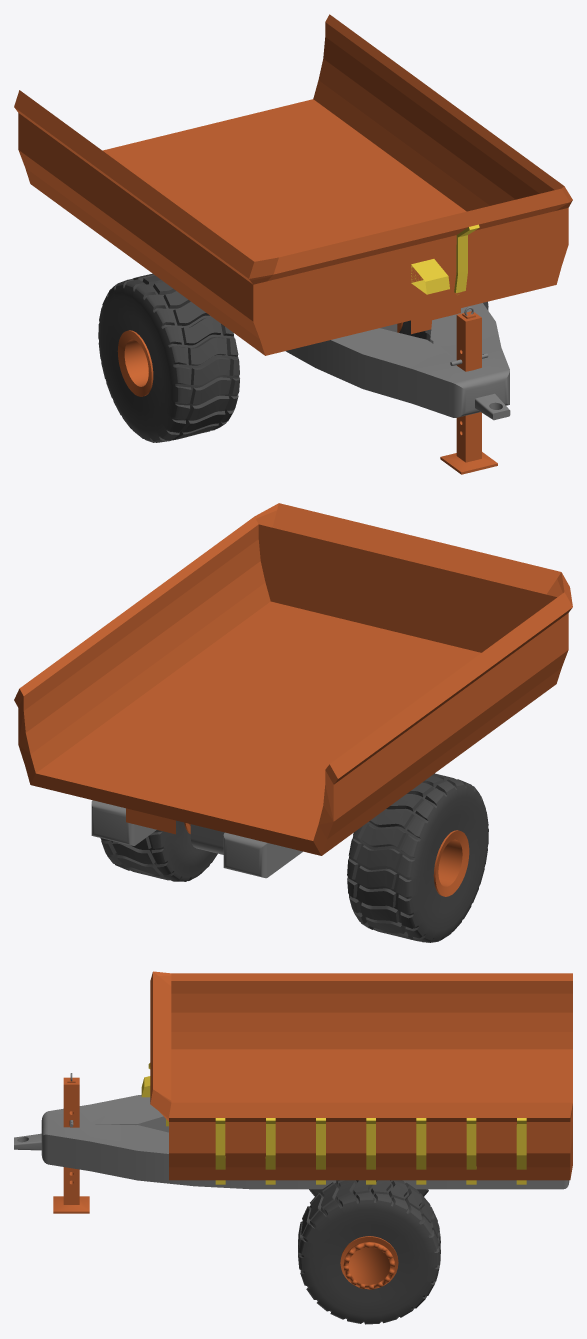
Rendered from Machine.glb.
The picture shows the model from 3 angles, top to bottom: view 1: azimuth 30°, elevation 25°; view 2: azimuth 150°, elevation 25°; view 3: azimuth 270°, elevation 25°; orthographic projection. The views are drawn at different scales.
Parts seen in each view (by area): view 1: Plane.001, Cylinder.121, Cube.001, Cube.003, Plane.010, Plane.009; view 2: Plane.001, Cylinder.121, Cube.001, Cube.002, Plane.018; view 3: Plane.001, Cylinder.121, Cube.001, Cube.003, Cylinder.001, Plane.004, Plane.005, Plane.008, Plane.006, Plane.007, Plane.002, Plane.003.
Part boxes in pixels (left/top/right/bottom): Plane.001: left=14, top=14, right=572, bottom=355; Cylinder.121: left=98, top=273, right=488, bottom=442; Cube.001: left=285, top=303, right=510, bottom=420; Cube.003: left=440, top=311, right=497, bottom=474; Plane.010: left=411, top=259, right=449, bottom=294; Plane.009: left=454, top=224, right=479, bottom=294; Plane.001: left=14, top=503, right=572, bottom=855; Cylinder.121: left=100, top=773, right=488, bottom=942; Cube.001: left=91, top=800, right=302, bottom=878; Cube.002: left=190, top=824, right=224, bottom=854; Plane.018: left=126, top=808, right=175, bottom=834; Plane.001: left=150, top=971, right=572, bottom=1180; Cylinder.121: left=298, top=1180, right=440, bottom=1324; Cube.001: left=14, top=1095, right=569, bottom=1189; Cube.003: left=53, top=1077, right=89, bottom=1213; Cylinder.001: left=343, top=1241, right=394, bottom=1289; Plane.004: left=416, top=1118, right=426, bottom=1169; Plane.005: left=466, top=1118, right=476, bottom=1169; Plane.008: left=215, top=1118, right=225, bottom=1169; Plane.006: left=516, top=1118, right=526, bottom=1169; Plane.007: left=265, top=1118, right=275, bottom=1169; Plane.002: left=316, top=1118, right=325, bottom=1169; Plane.003: left=366, top=1118, right=375, bottom=1169.
Size of what is drawn, in the model's own units: 3.49 by 2.75 by 6.04.
